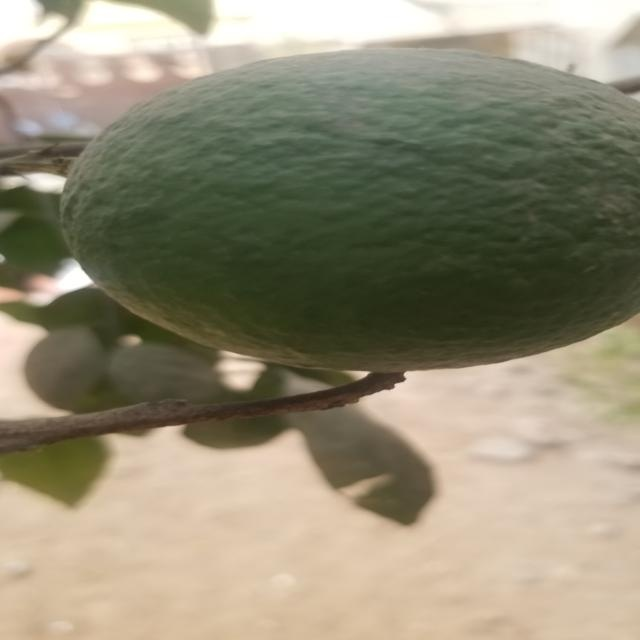agrume: (68, 46, 640, 374)
